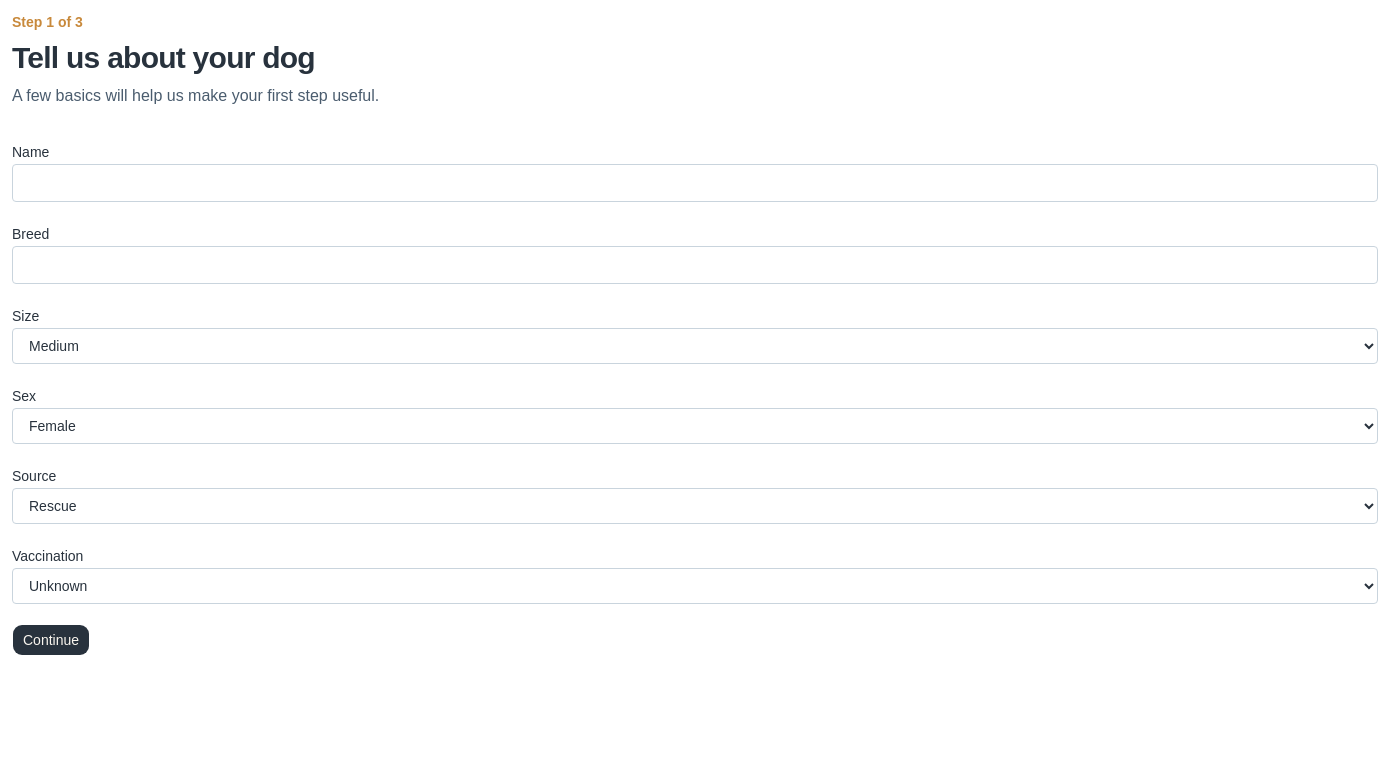
it: GuidedSetup › starts basics with the exact profile and advances without recreating the setup
The width and height of the screenshot is (1390, 780).
In the field labelled "Name": (695, 183) [12,164,1378,202], type "Biscuit"
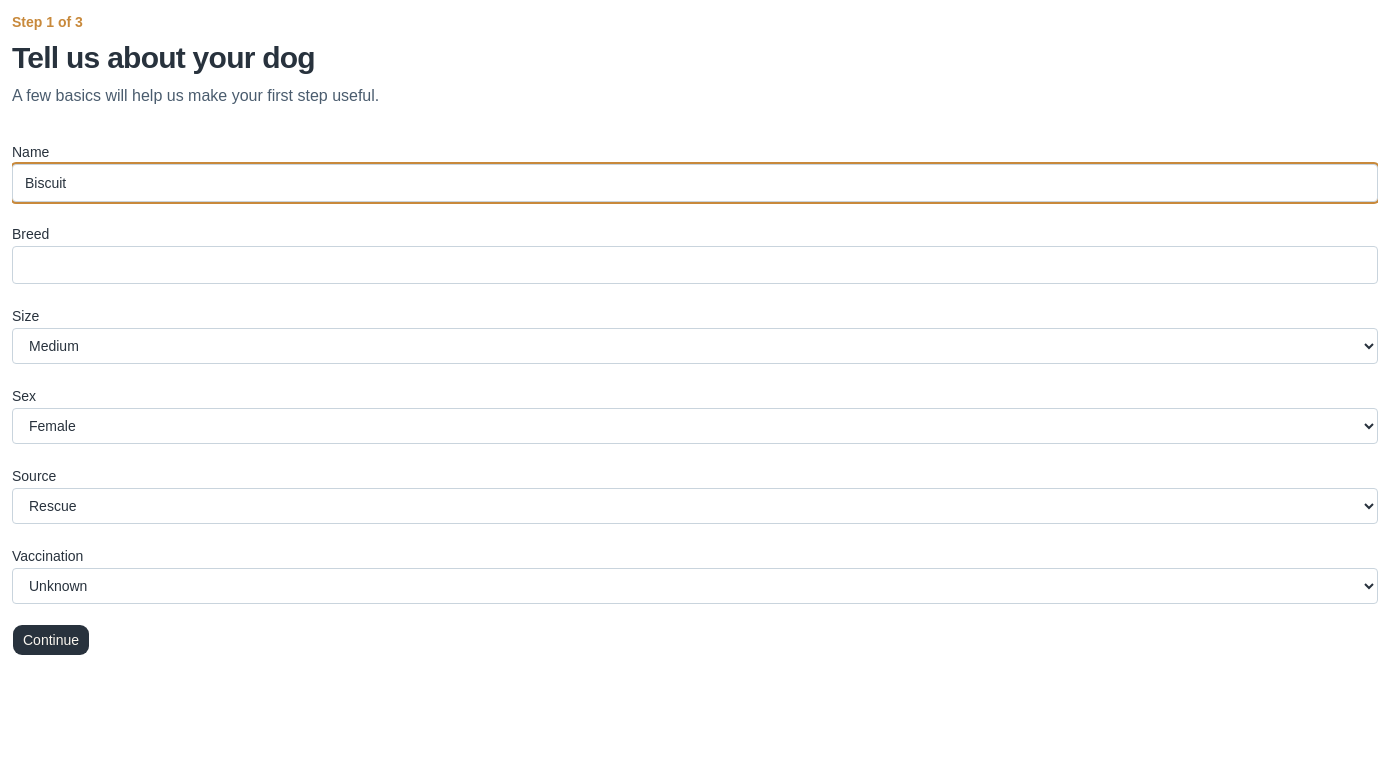
Select "Medium" in the dropdown labelled "Size": (695, 346) [12,328,1378,364]
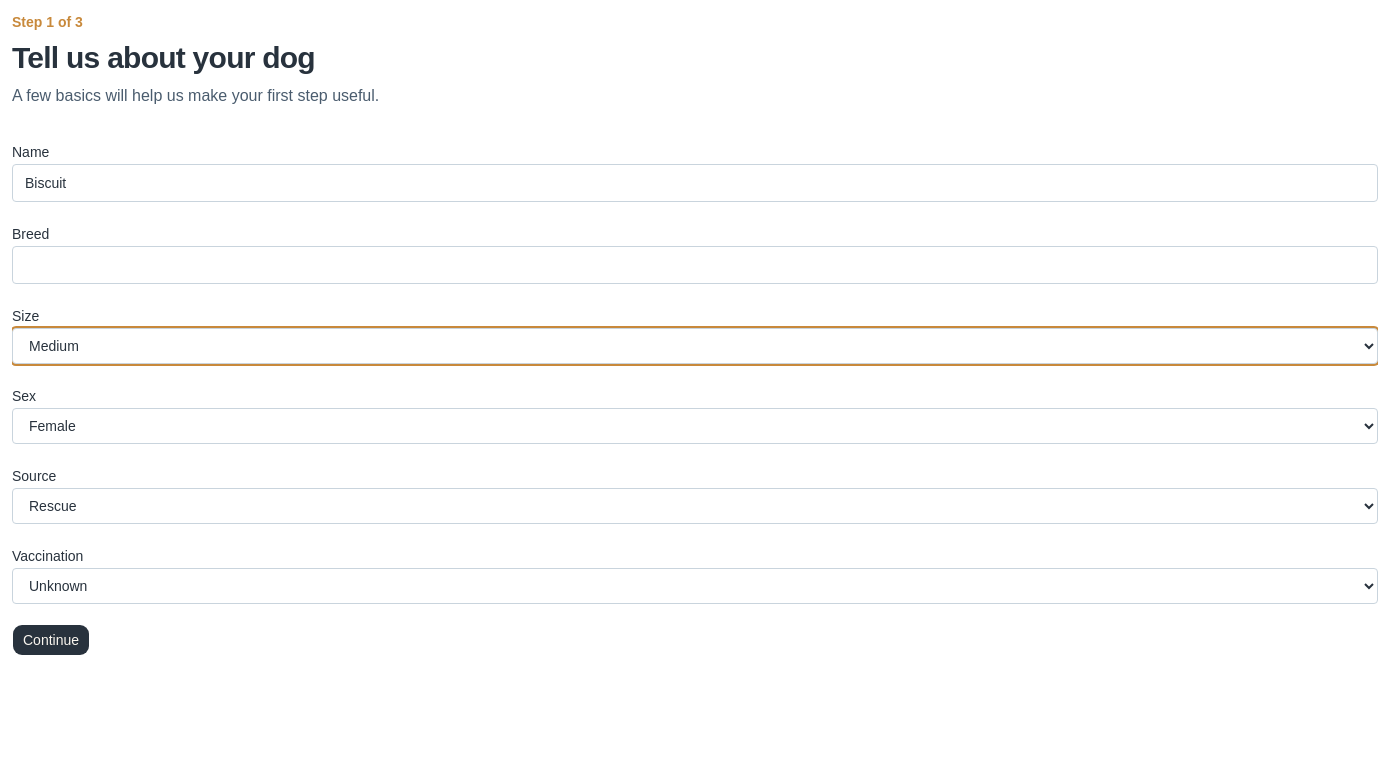
Select "Female" in the dropdown labelled "Sex": (695, 426) [12,408,1378,444]
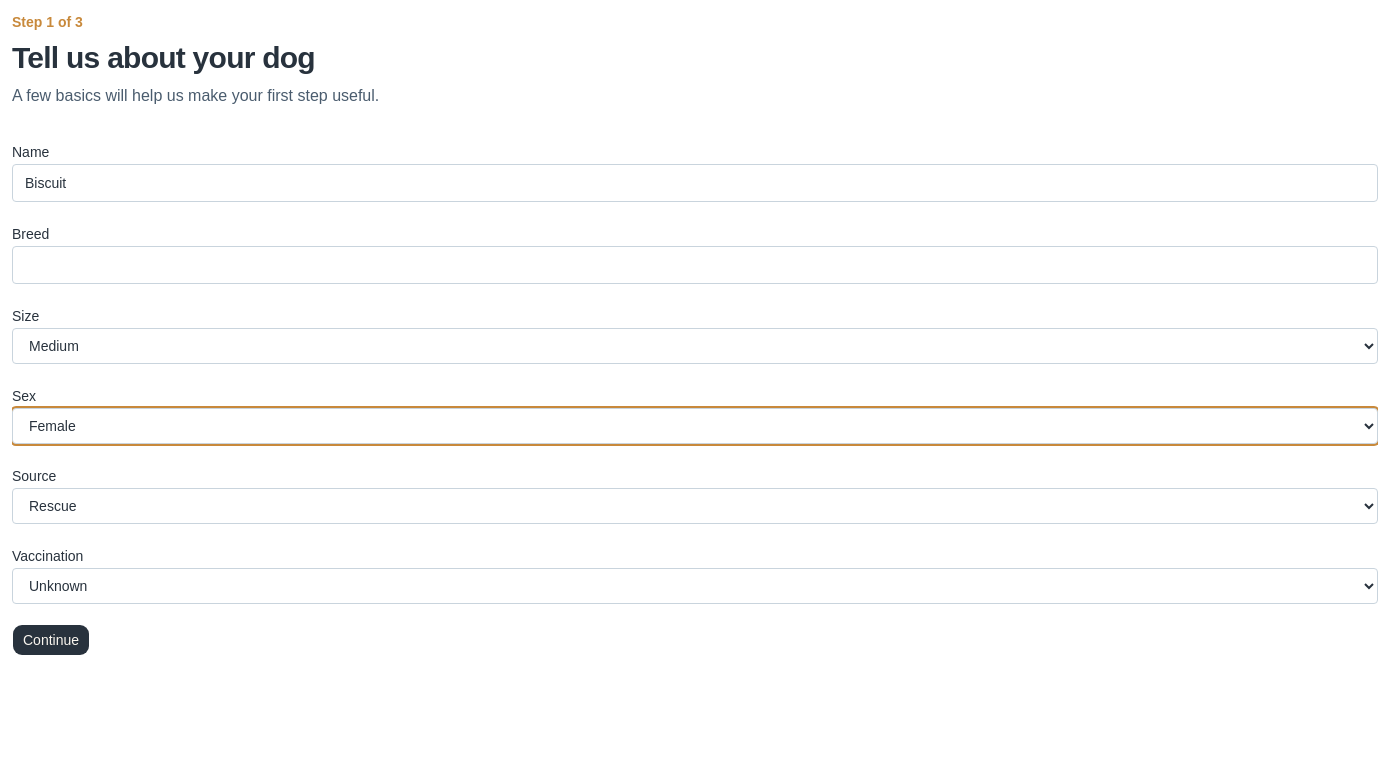
Select "Rescue" in the dropdown labelled "Source": (695, 506) [12,488,1378,524]
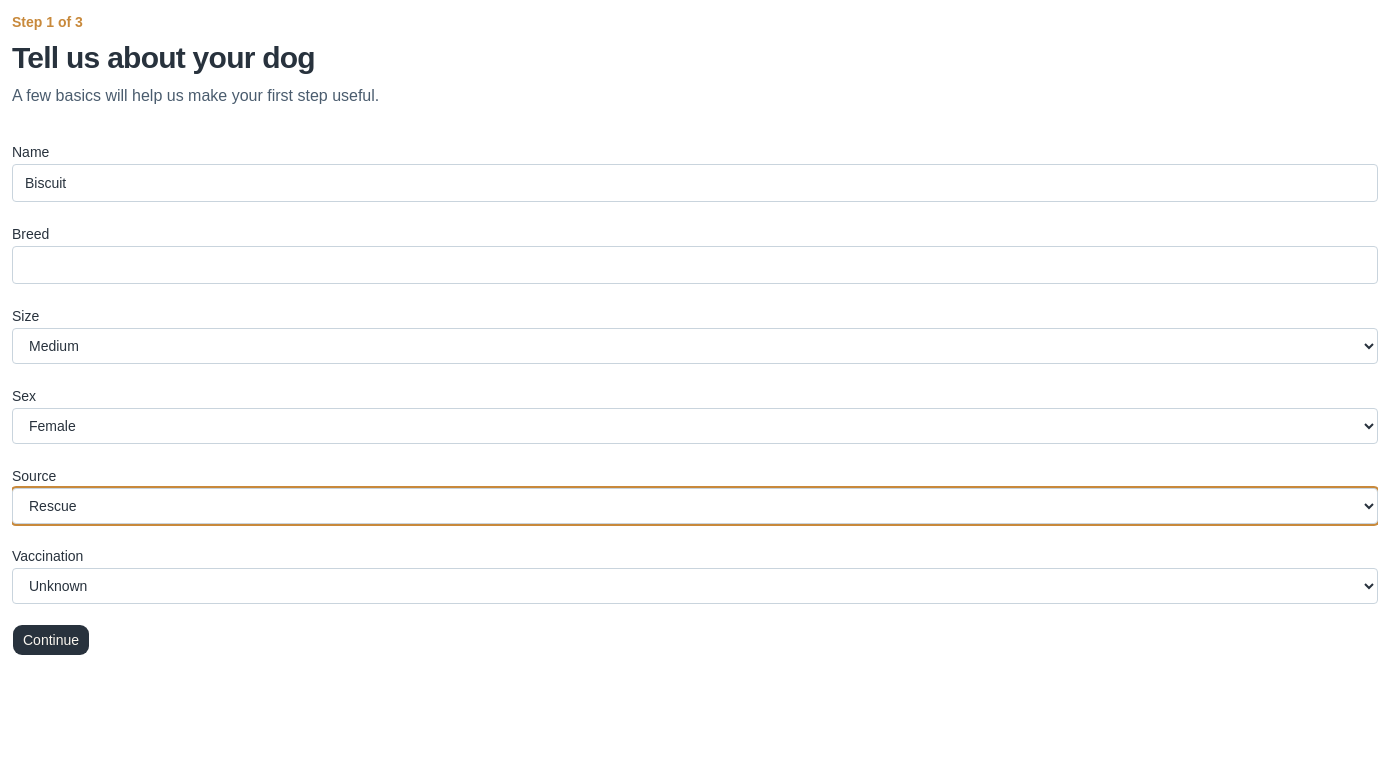
Select "In progress" in the dropdown labelled "Vaccination": (695, 586) [12,568,1378,604]
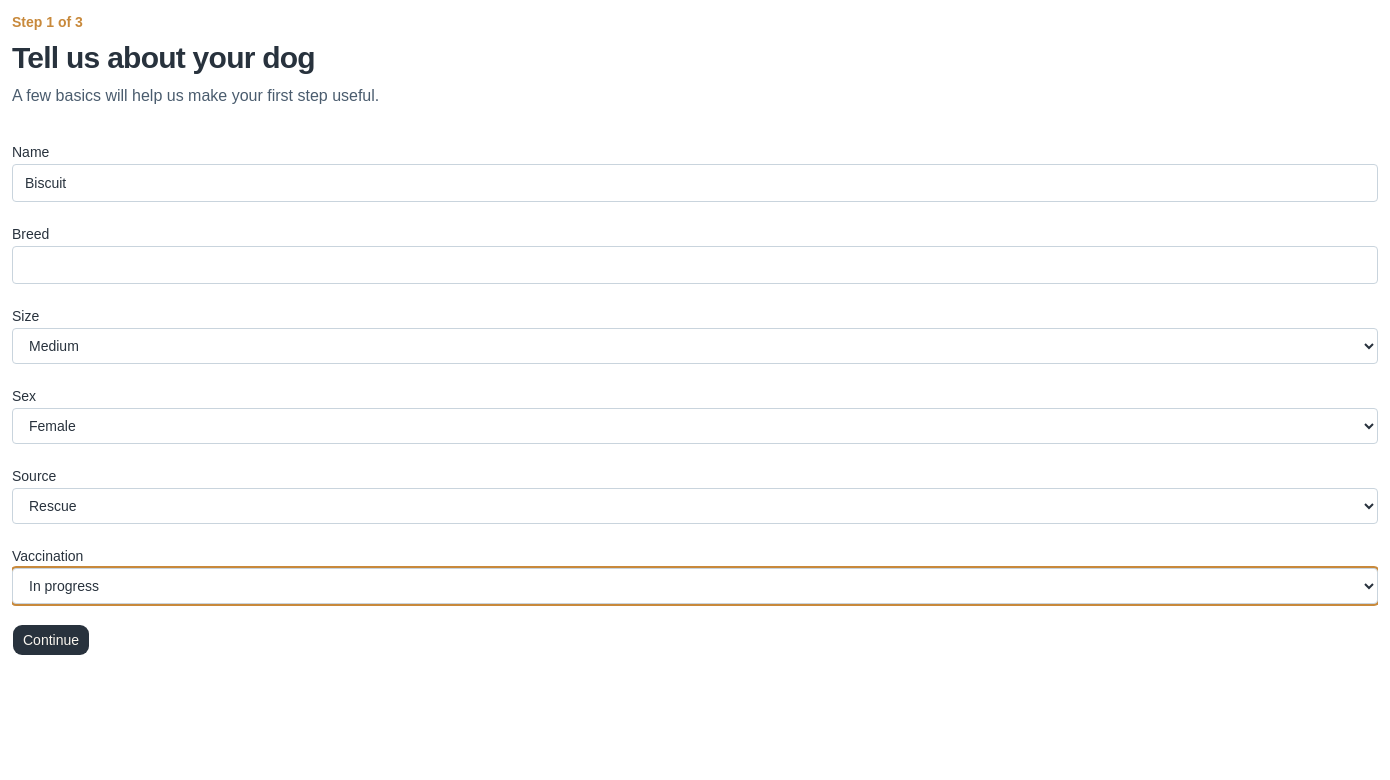
Click the button "Continue": click(51, 640) [12,624,90,656]
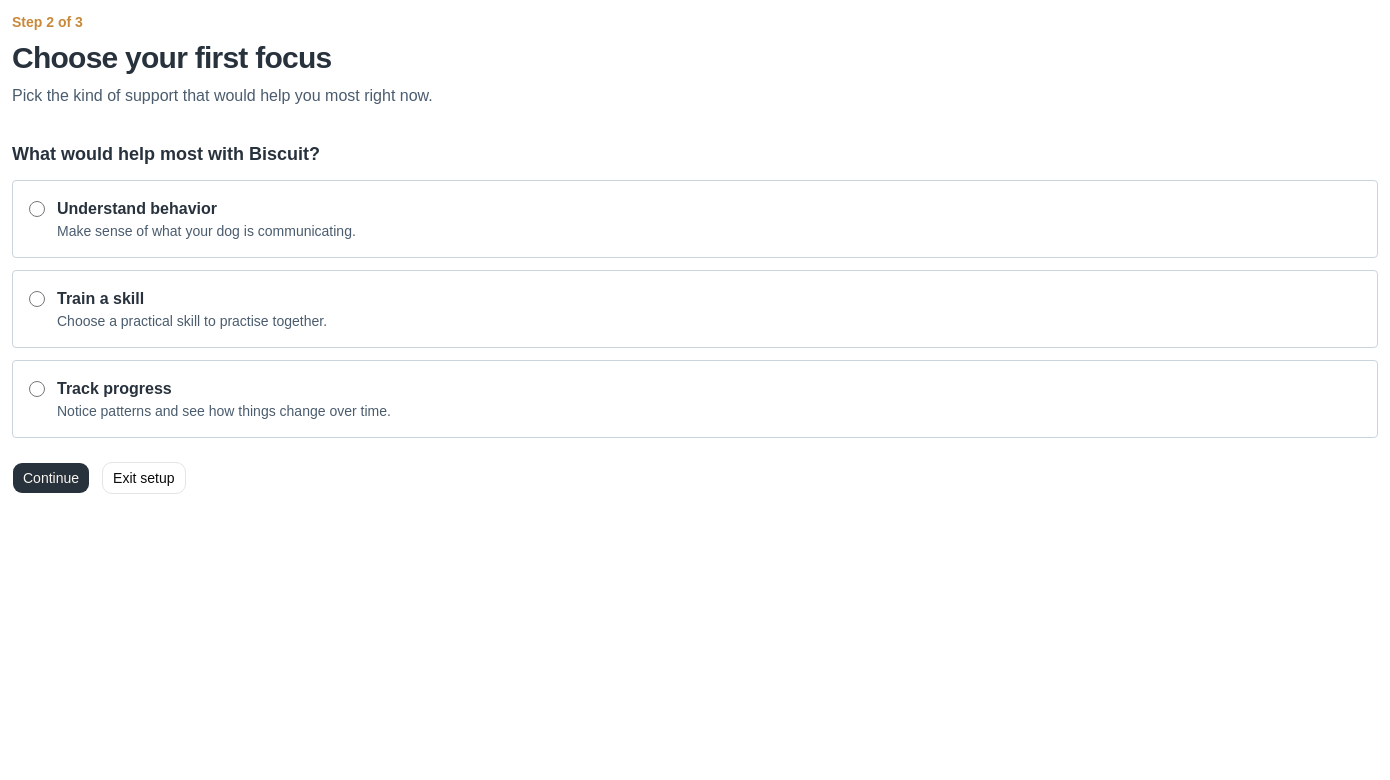
Now the element that starts with "What would help most with Biscuit?" is shown, box [12,140,1378,438]
Now the text "What would help most with Biscuit?" is shown, box [12,140,320,168]
Now the text "Step 2 of 3" is shown, box [12,14,83,30]
